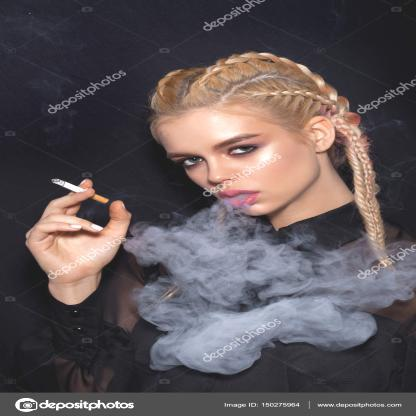cigarette: (50, 176, 110, 204)
person: (60, 51, 416, 394)
smoke: (128, 204, 379, 368)
